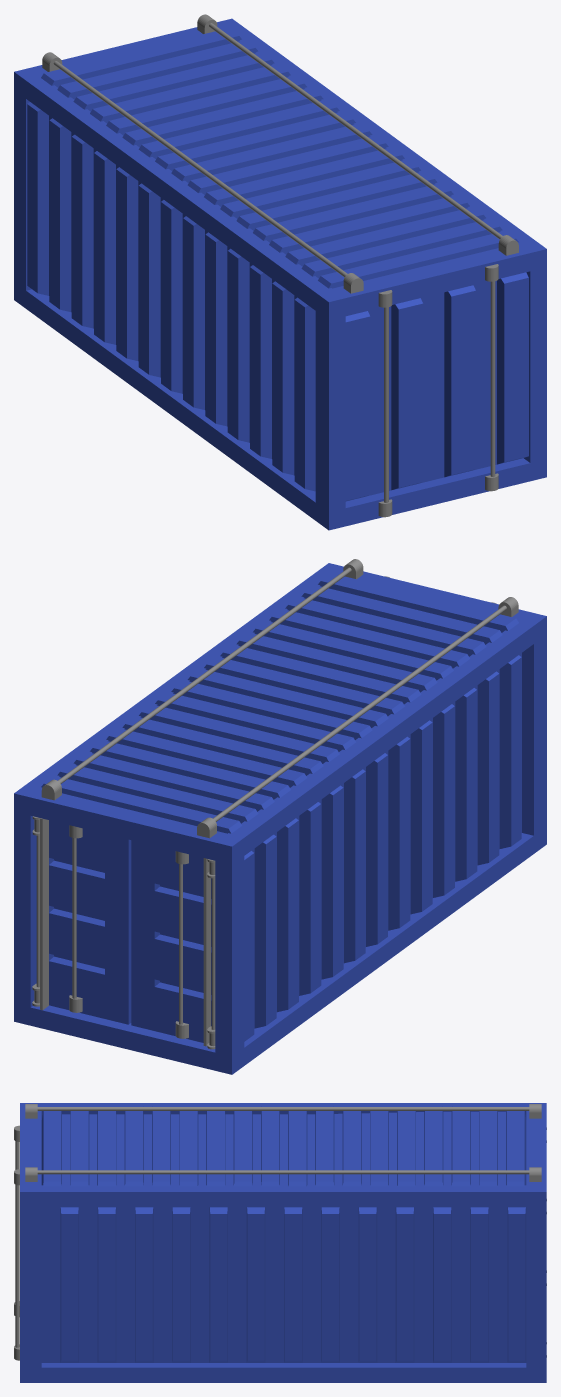
Rendered from ContainerBiru.fbx.
3 renders of one model, top to bottom at view 1: azimuth 30°, elevation 25°; view 2: azimuth 150°, elevation 25°; view 3: azimuth 270°, elevation 25°, orthographic. The views are drawn at different scales.
Parts seen in each view (by area): view 1: ContainerBiru; view 2: ContainerBiru; view 3: ContainerBiru.
Boxes of the visible parts, box(x1,y1,x2,y2) form: ContainerBiru: box(14, 14, 546, 530); ContainerBiru: box(14, 559, 546, 1074); ContainerBiru: box(14, 1103, 546, 1382).
Size of the model in its own units: 604 by 640 by 1528.
